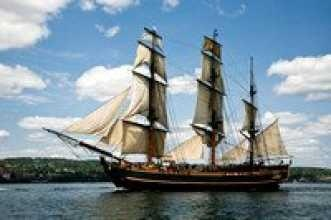fanchuan: (41, 24, 300, 194)
